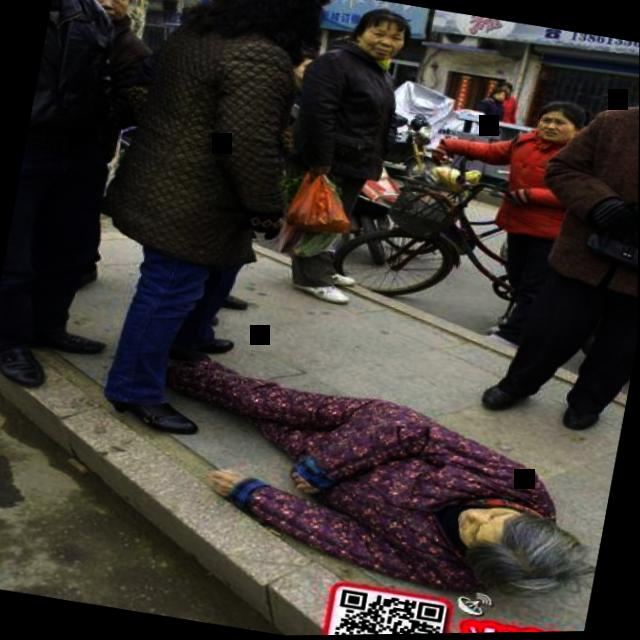Fall-Detected: (119, 309, 629, 632)
